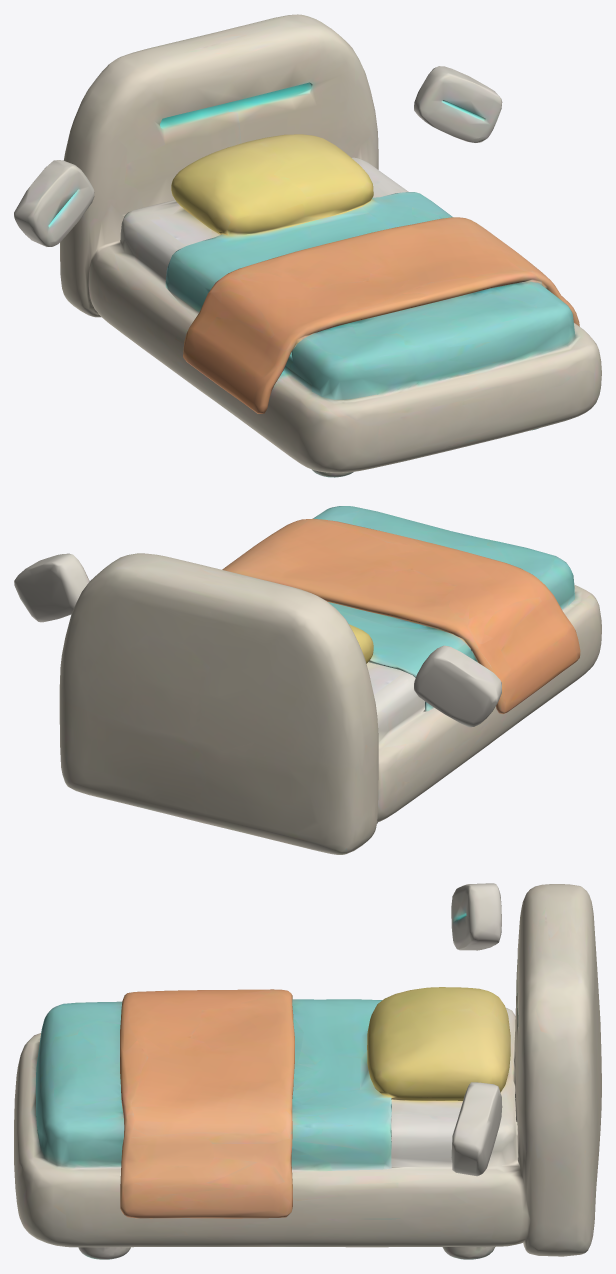
The model's file is bedroom_bed.glb.
The picture shows the model from 3 angles, top to bottom: view 1: azimuth 30°, elevation 25°; view 2: azimuth 150°, elevation 25°; view 3: azimuth 270°, elevation 25°; orthographic projection. The views are drawn at different scales.
Parts seen in each view (by area): view 1: tripo_node_9dcc422b-dd29-43d8-b27d-cbf2f3594ef3; view 2: tripo_node_9dcc422b-dd29-43d8-b27d-cbf2f3594ef3; view 3: tripo_node_9dcc422b-dd29-43d8-b27d-cbf2f3594ef3.
Boxes of the visible parts, left/top/right/bottom form: tripo_node_9dcc422b-dd29-43d8-b27d-cbf2f3594ef3: left=14, top=14, right=601, bottom=477; tripo_node_9dcc422b-dd29-43d8-b27d-cbf2f3594ef3: left=14, top=506, right=601, bottom=854; tripo_node_9dcc422b-dd29-43d8-b27d-cbf2f3594ef3: left=14, top=883, right=601, bottom=1259.
Size of the model in its own units: 1.9 by 0.9558 by 1.86.
Materials: 1 (1 with a texture image).
